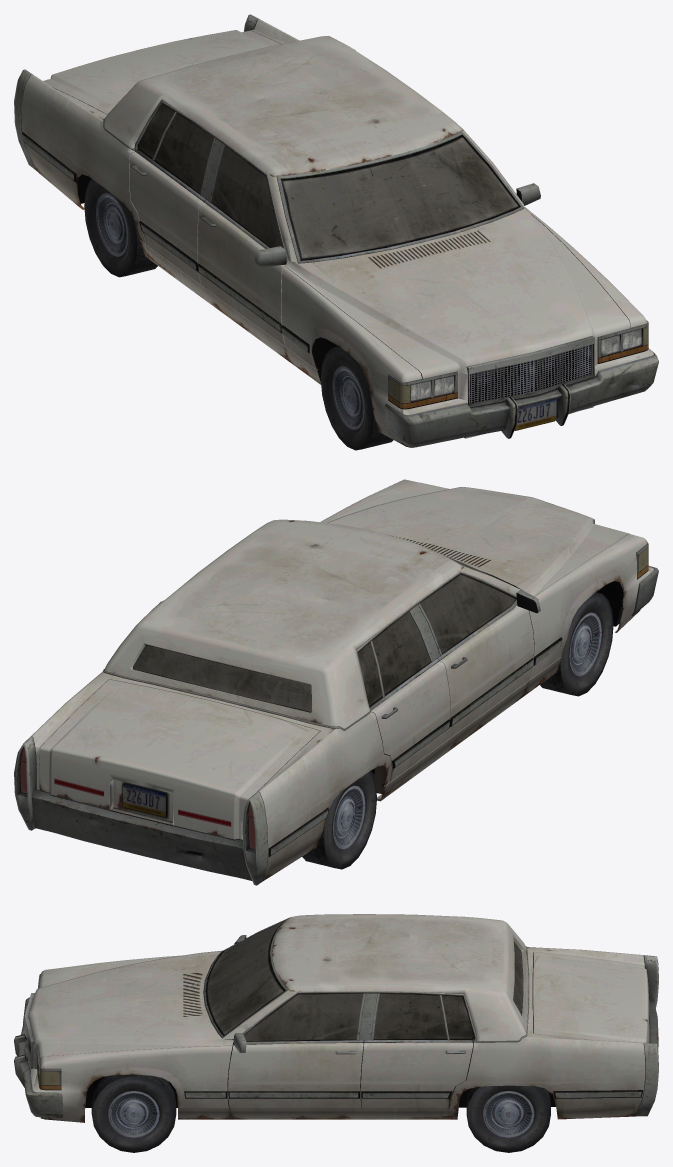
Rendered from Model_Sedan.FBX.
3 renders of one model, top to bottom at view 1: azimuth 30°, elevation 25°; view 2: azimuth 150°, elevation 25°; view 3: azimuth 270°, elevation 25°, orthographic. The views are drawn at different scales.
Visible parts, largest first — view 1: carMesh, Wheel_FR, Wheel_RR, HeadLights; view 2: carMesh, Wheel_FR, Wheel_RR; view 3: carMesh, Wheel_FL, Wheel_RL.
Boxes of the visible parts, x1=… form: carMesh: x1=14, y1=14, x2=658, y2=447; Wheel_FR: x1=320, y1=346, x2=393, y2=450; Wheel_RR: x1=84, y1=179, x2=157, y2=277; HeadLights: x1=411, y1=329, x2=641, y2=400; carMesh: x1=14, y1=479, x2=658, y2=885; Wheel_FR: x1=540, y1=592, x2=613, y2=696; Wheel_RR: x1=302, y1=771, x2=376, y2=869; carMesh: x1=14, y1=914, x2=658, y2=1122; Wheel_FL: x1=91, y1=1075, x2=176, y2=1152; Wheel_RL: x1=466, y1=1085, x2=550, y2=1152.
Bounding box in the file's own units: 2346 × 1581 × 5825.
